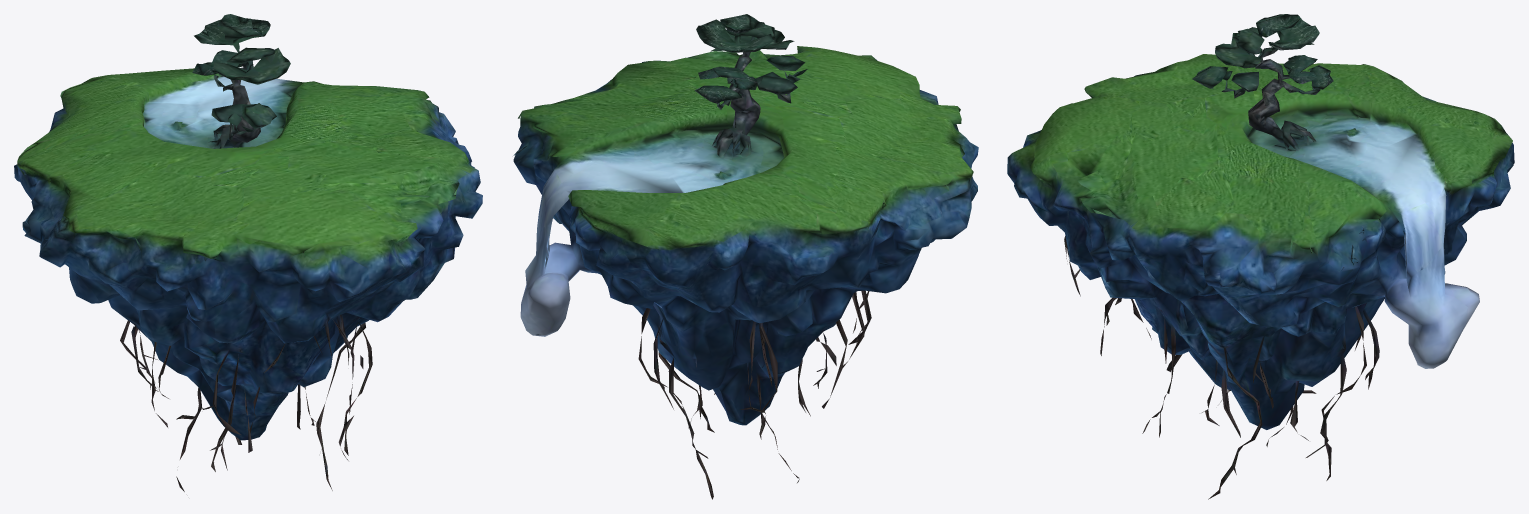
File: floating_isle_b.lod1.glb
3 views of the same model, side by side, from view 1: azimuth 30°, elevation 25°; view 2: azimuth 150°, elevation 25°; view 3: azimuth 270°, elevation 25° (orthographic).
Visible parts, largest first — view 1: tripo_node_ec0f92a8-c7e3-40c0-a512-d4d2a0986ae4; view 2: tripo_node_ec0f92a8-c7e3-40c0-a512-d4d2a0986ae4; view 3: tripo_node_ec0f92a8-c7e3-40c0-a512-d4d2a0986ae4.
Part boxes in pixels (left/top/right/bottom): tripo_node_ec0f92a8-c7e3-40c0-a512-d4d2a0986ae4: left=14, top=14, right=482, bottom=491; tripo_node_ec0f92a8-c7e3-40c0-a512-d4d2a0986ae4: left=513, top=14, right=978, bottom=499; tripo_node_ec0f92a8-c7e3-40c0-a512-d4d2a0986ae4: left=1007, top=14, right=1514, bottom=499.
Size of the model in its own units: 0.9339 by 0.9683 by 0.9625.
1 material, 1 textured.
